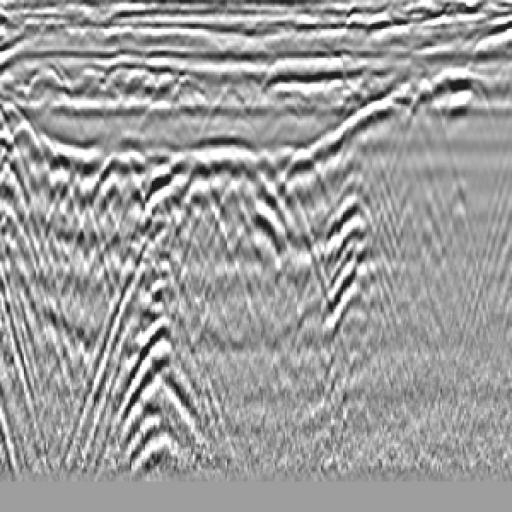metalic: (204, 125, 324, 340)
